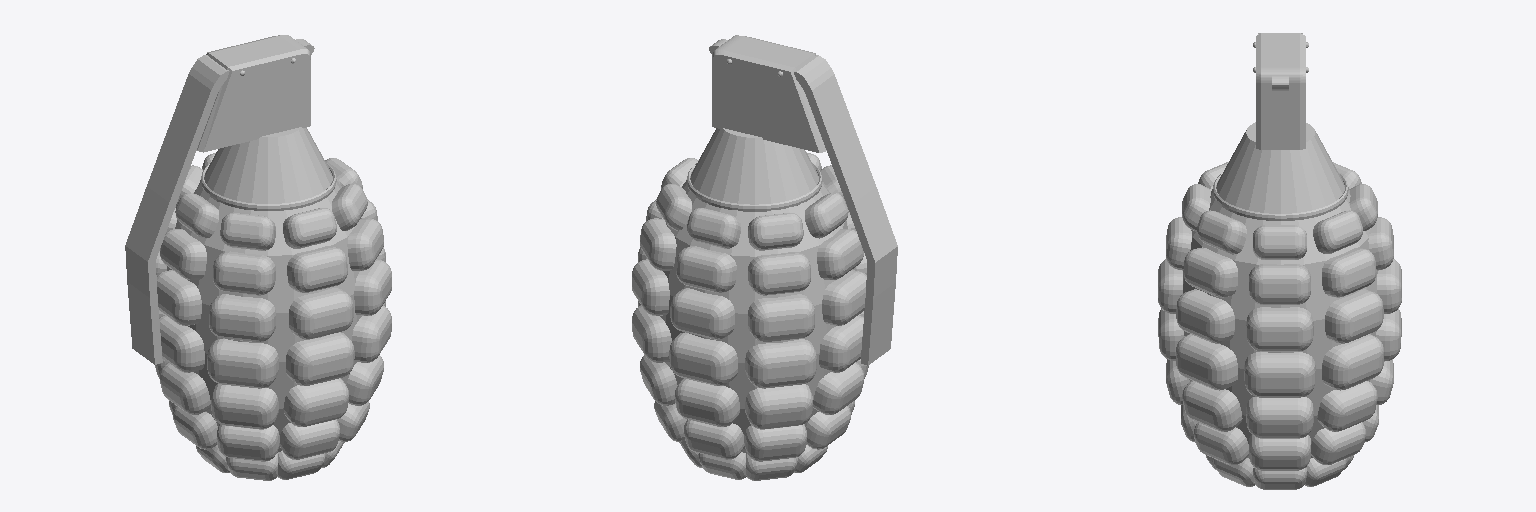
Rendered from granade.obj.
3 renders of one model, left to right at view 1: azimuth 30°, elevation 25°; view 2: azimuth 150°, elevation 25°; view 3: azimuth 270°, elevation 25°, orthographic.
Parts seen in each view (by area): view 1: (null); view 2: (null); view 3: (null).
Boxes of the visible parts, x1=… form: (null): x1=125, y1=35, x2=391, y2=480; (null): x1=632, y1=35, x2=897, y2=480; (null): x1=1158, y1=33, x2=1401, y2=489.
Size of the model in its own units: 3.11 by 5.1 by 2.76.